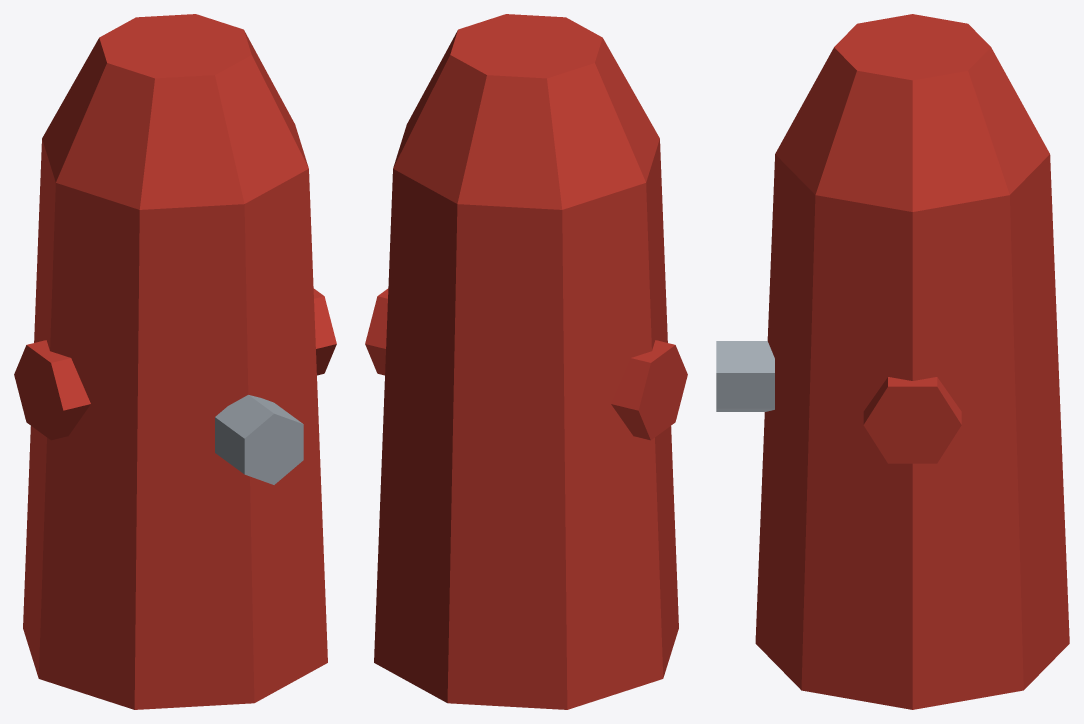
Rendered from FireHydrant.glb.
3 views of the same model, side by side, from view 1: azimuth 30°, elevation 25°; view 2: azimuth 150°, elevation 25°; view 3: azimuth 270°, elevation 25° (orthographic).
Parts seen in each view (by area): view 1: FireHydrant_SignRed, FireHydrant_Metal; view 2: FireHydrant_SignRed; view 3: FireHydrant_SignRed, FireHydrant_Metal.
Boxes of the visible parts, x1,y1,x2,y2 form: FireHydrant_SignRed: (14, 14, 336, 709); FireHydrant_Metal: (215, 395, 303, 484); FireHydrant_SignRed: (365, 14, 687, 709); FireHydrant_SignRed: (755, 14, 1069, 709); FireHydrant_Metal: (716, 341, 774, 411).
Bounding box in the file's own units: 0.32 × 0.67 × 0.36.
